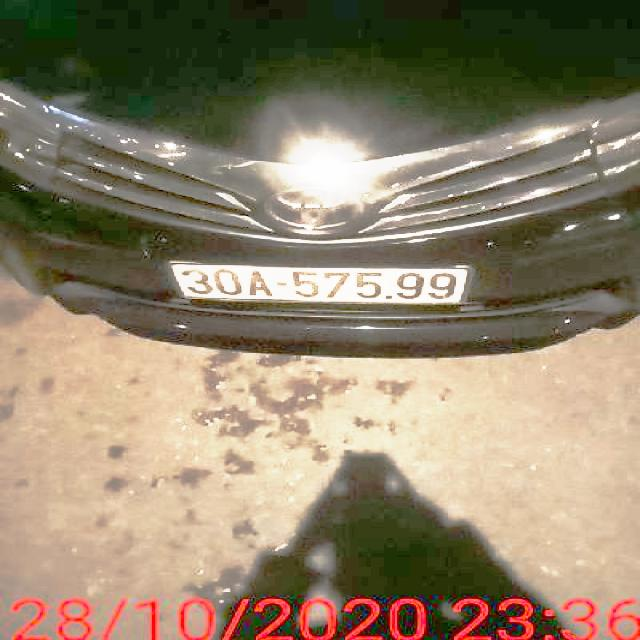license_plate: (169, 264, 464, 303)
